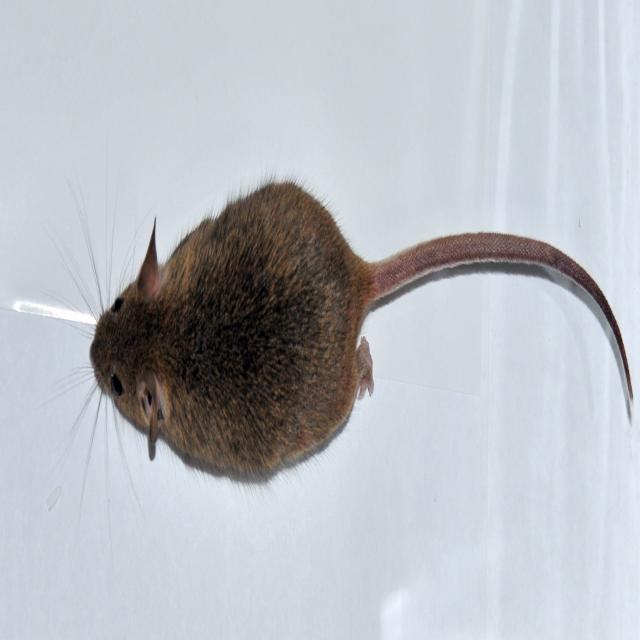rat: (50, 152, 640, 501)
